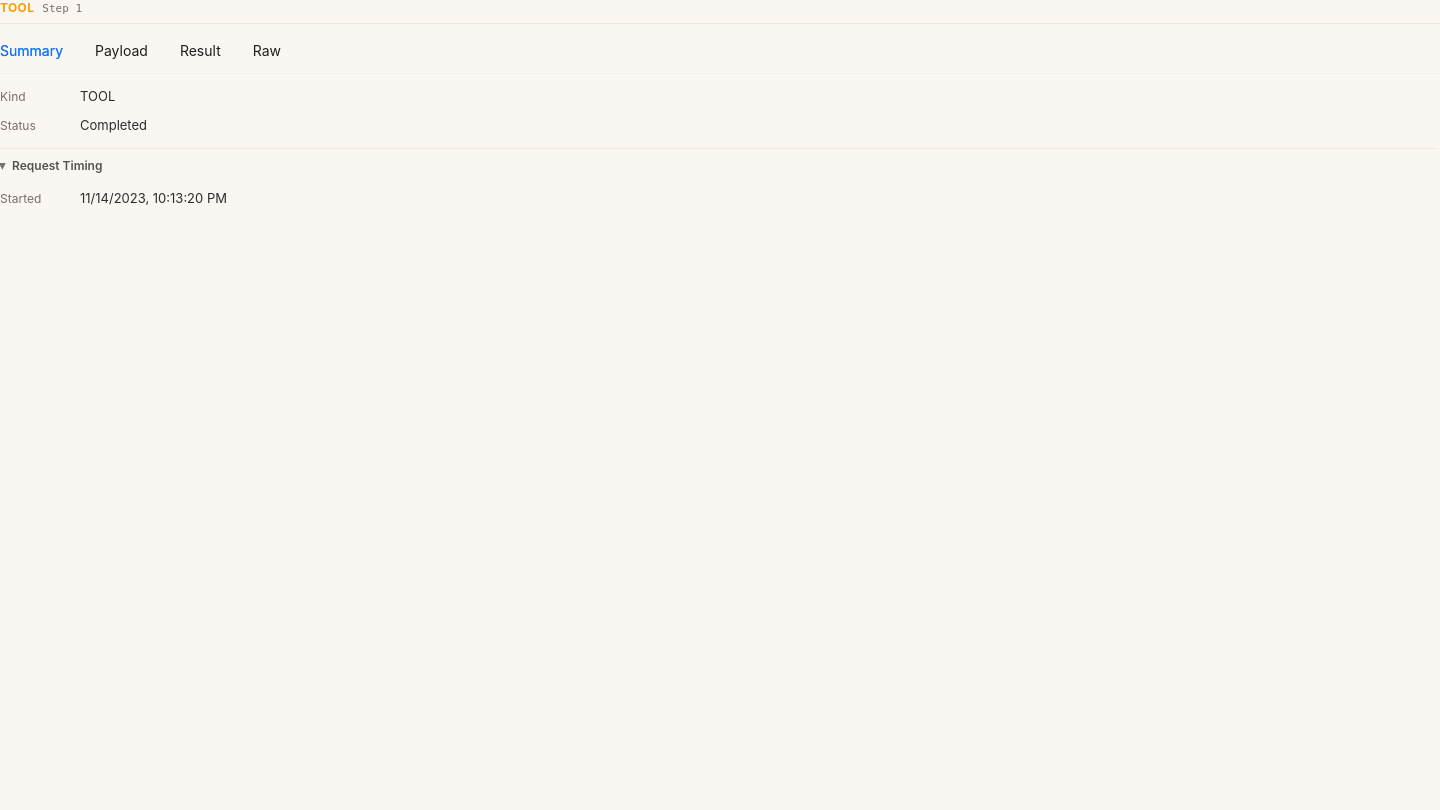
Test: TrajectoryInspector › unwraps MCP content blocks on the Result tab and shows Payload
Expected: the tab "Payload" is shown, [95,40,148,62]
Click the tab "Result" at coordinates (200, 51), box [180,40,221,62]
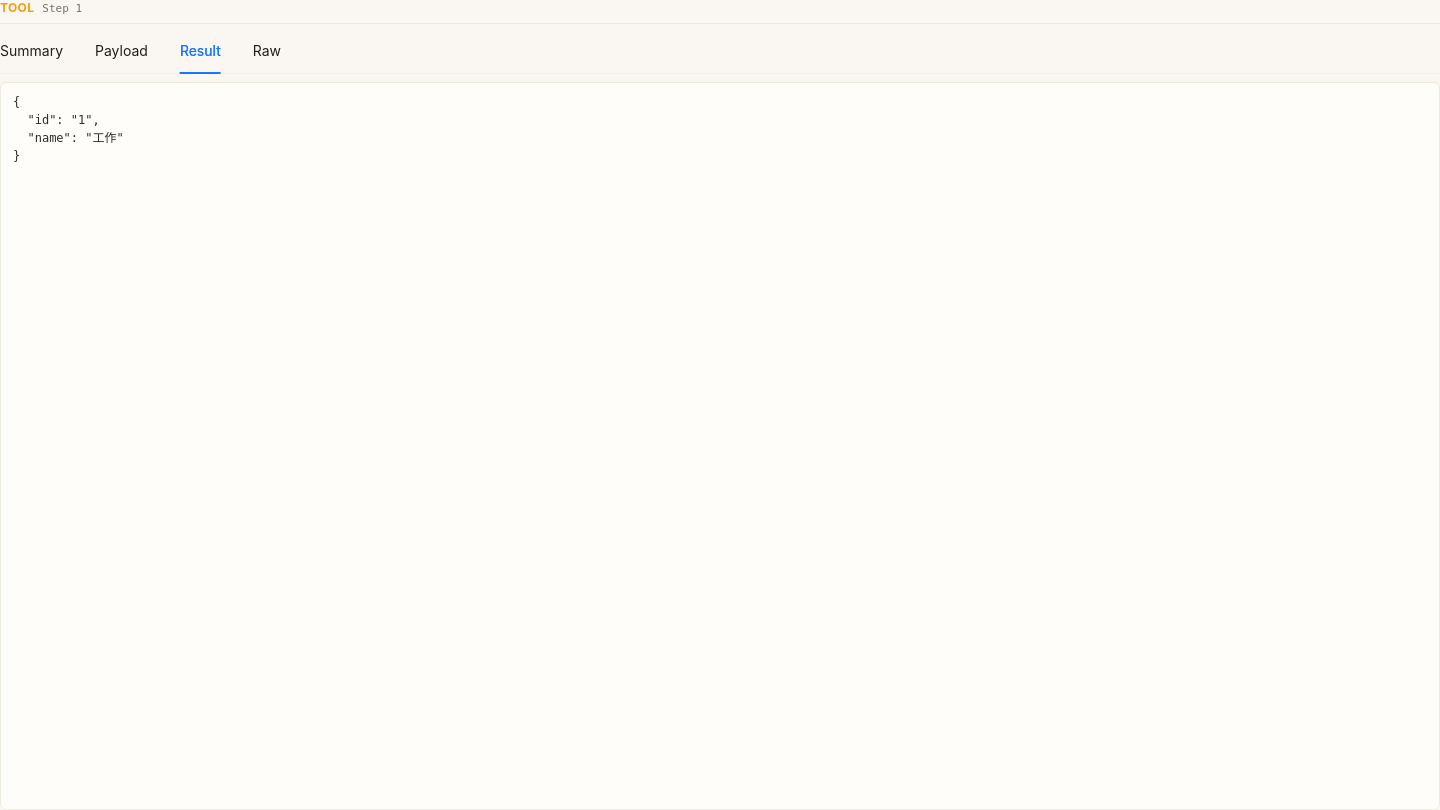
Expected: the text with test id "trajectory-preview" shows "\"name\": \"工作\"", [13,95,124,163]
